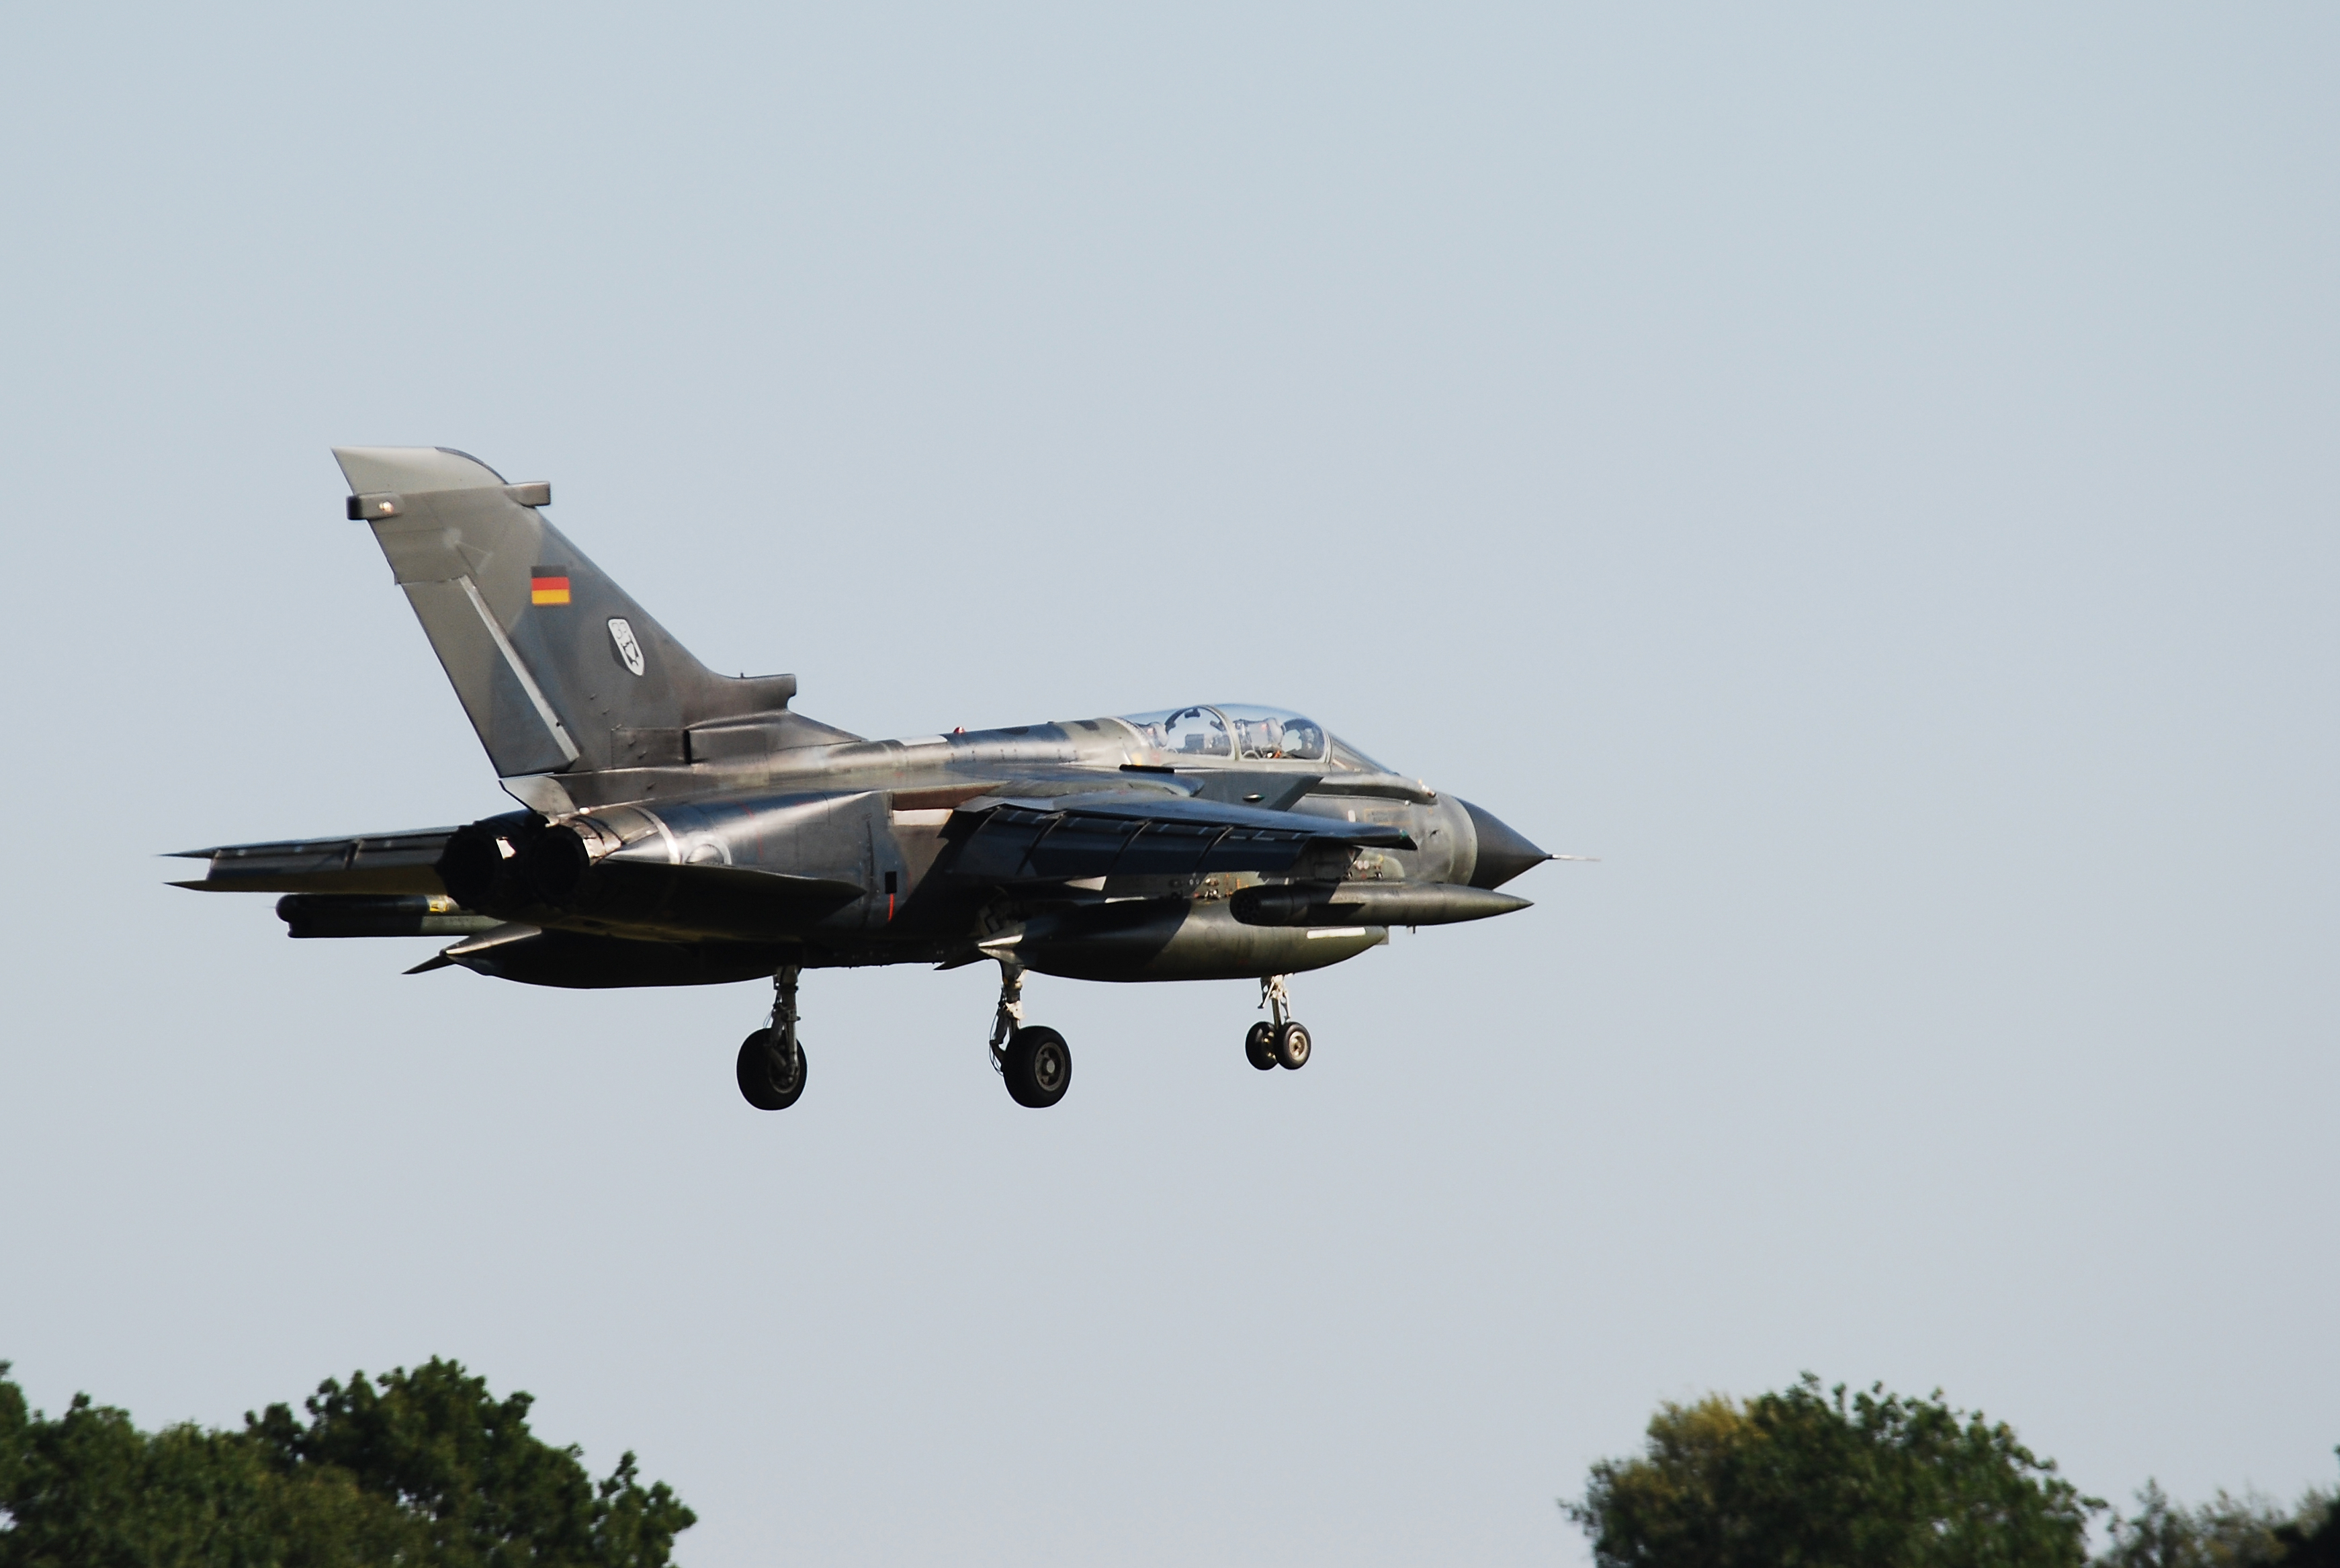Tornado: (147, 444, 1603, 1111)
